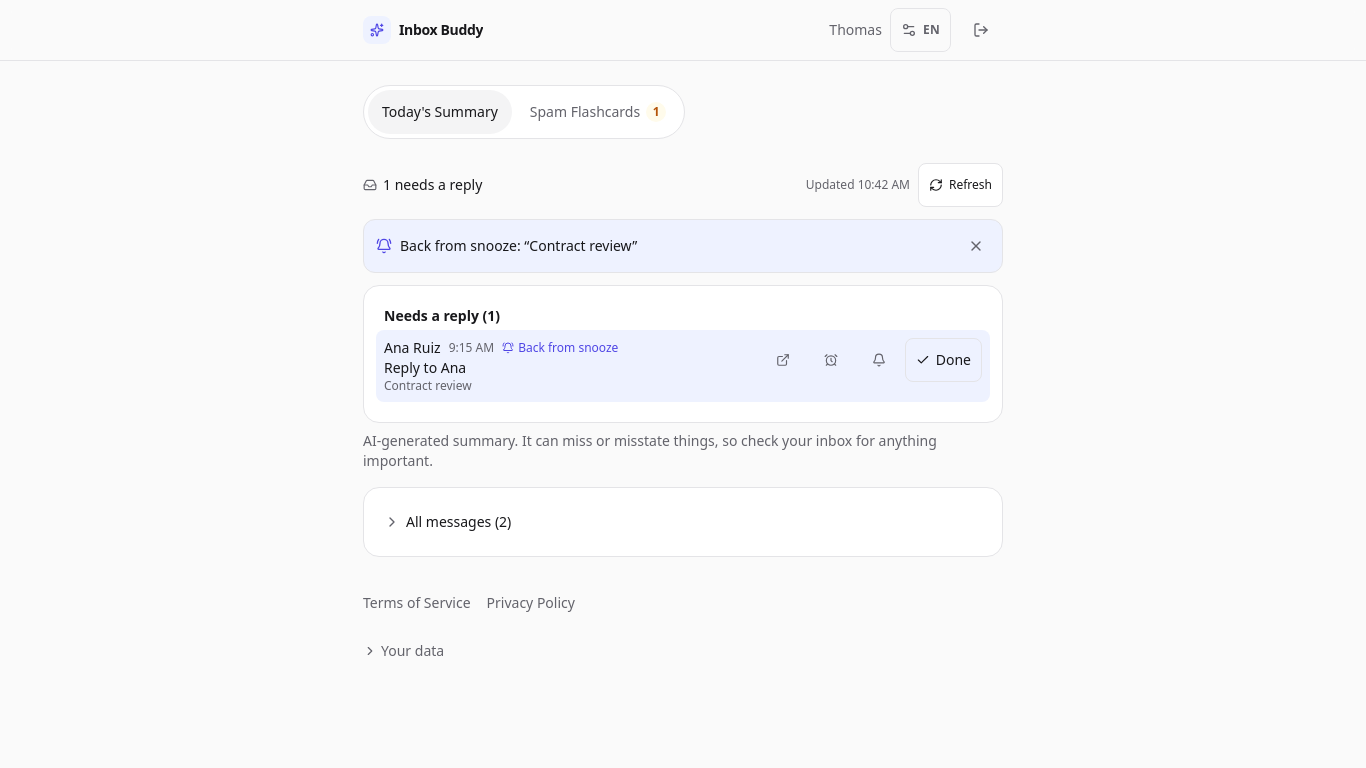
it: Dashboard › summary tab › Snooze and Remind me › a snooze whose time has passed brings the item back, highlighted, until it is dismissed
The width and height of the screenshot is (1366, 768).
Check: the text "Reply to Ana" is shown, box [384, 358, 466, 377]
Check: the text "Back from snooze: “Contract review”" is shown, box [400, 236, 637, 255]
What coordinates should you click on to do the following:
click the button named "Dismiss the reminder for “Contract review”"
I would click on:
 (976, 246)
Its box is [954, 224, 998, 268].
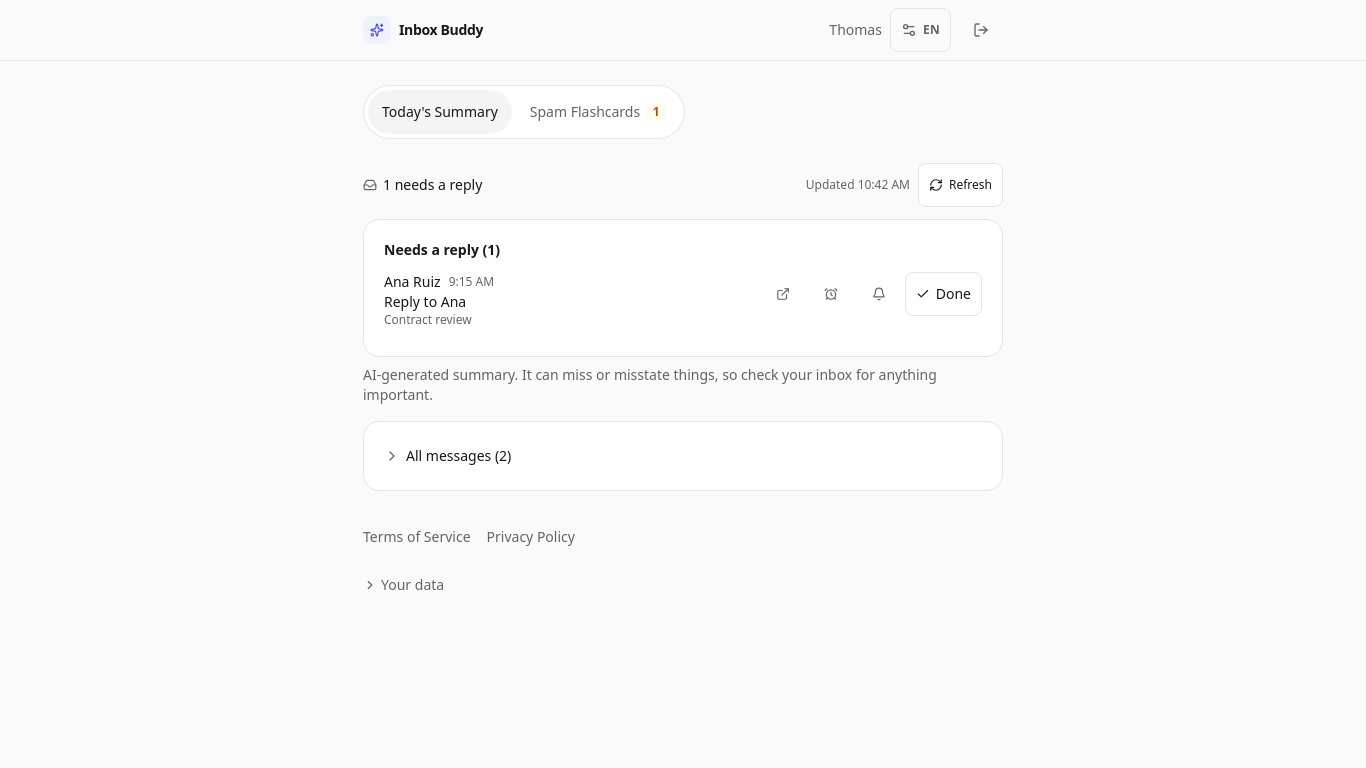
Check: the text "Back from snooze" is gone
